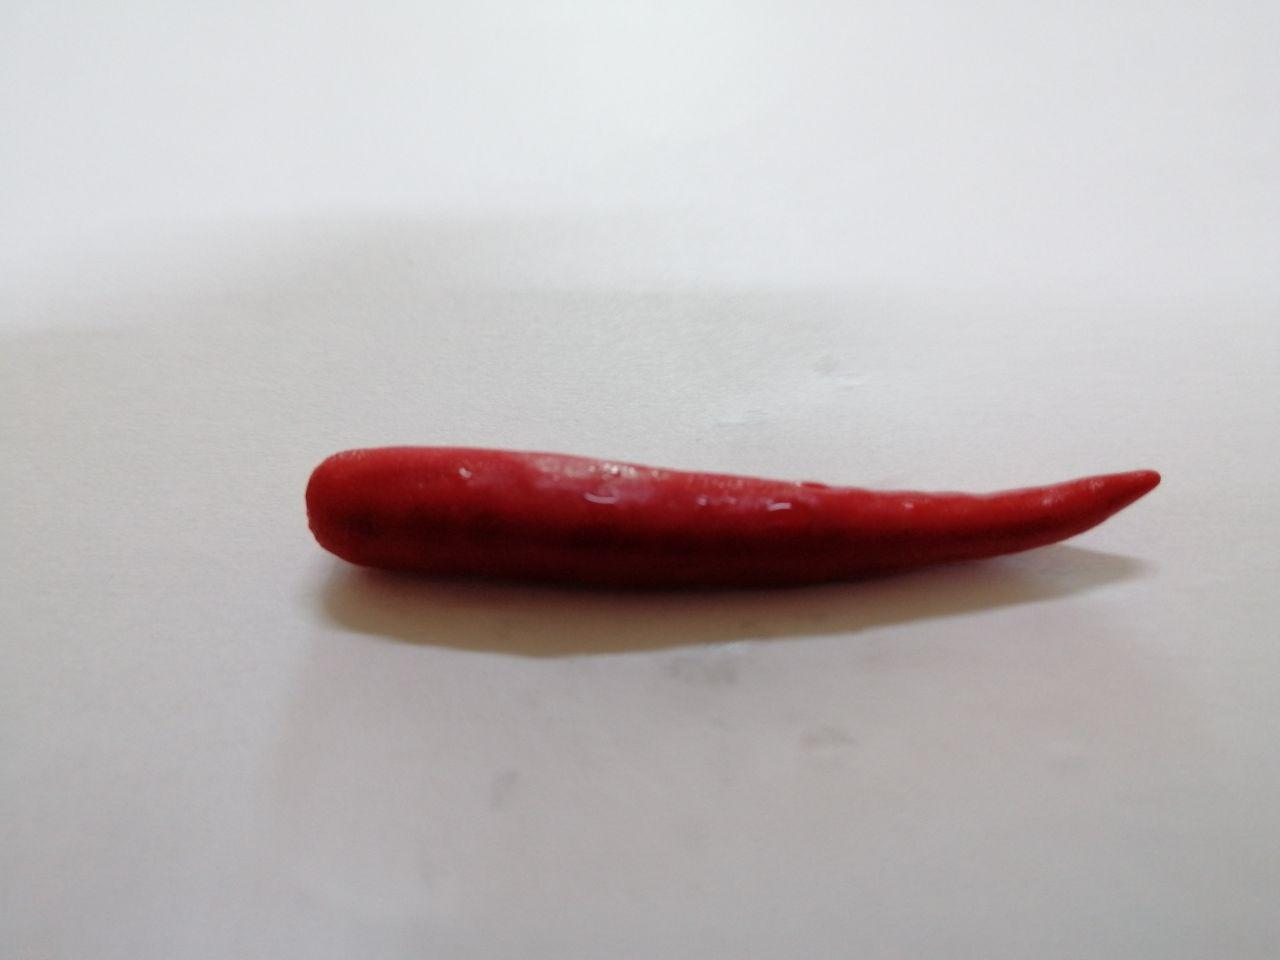lada merah: (265, 409, 1194, 656)
